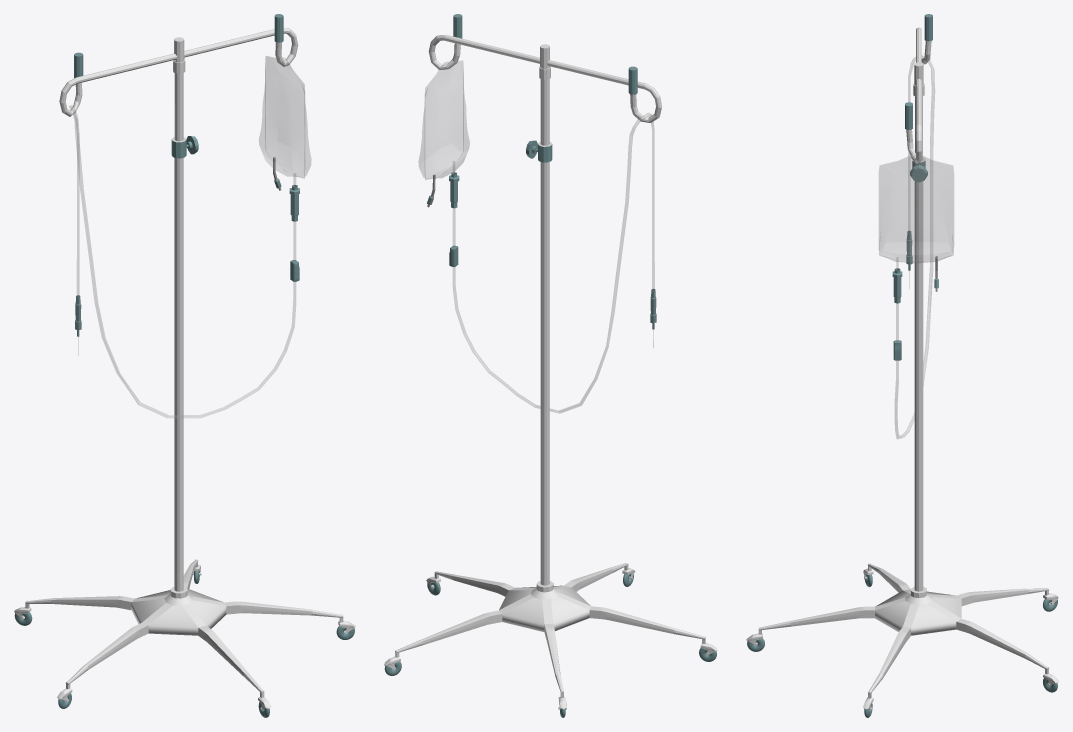
File: IVstand.fbx
3 renders of one model, left to right at view 1: azimuth 30°, elevation 25°; view 2: azimuth 150°, elevation 25°; view 3: azimuth 270°, elevation 25°, orthographic. The views are drawn at different scales.
Visible parts, largest first — view 1: polySurface4; view 2: polySurface4; view 3: polySurface4.
Part boxes in pixels (x1,y1,x2,y2): polySurface4: [14, 14, 355, 717]; polySurface4: [384, 14, 717, 717]; polySurface4: [746, 14, 1058, 717].
Size of the model in its own units: 4.48 by 8.92 by 4.27.
